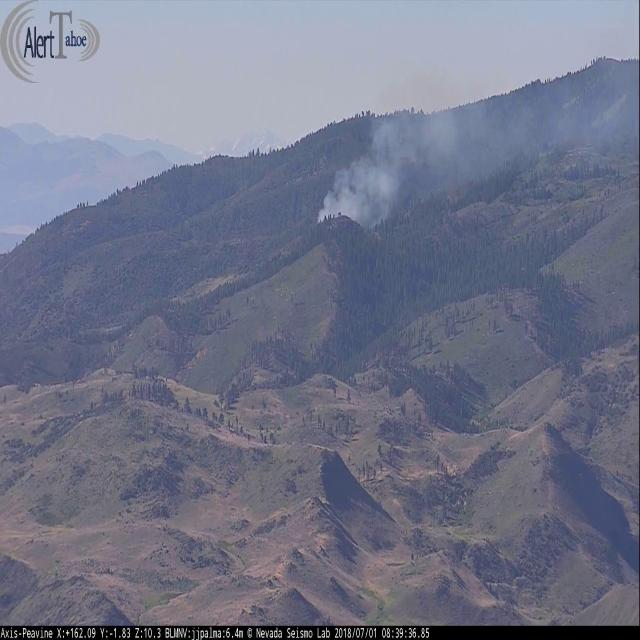smoke: (318, 32, 640, 235)
